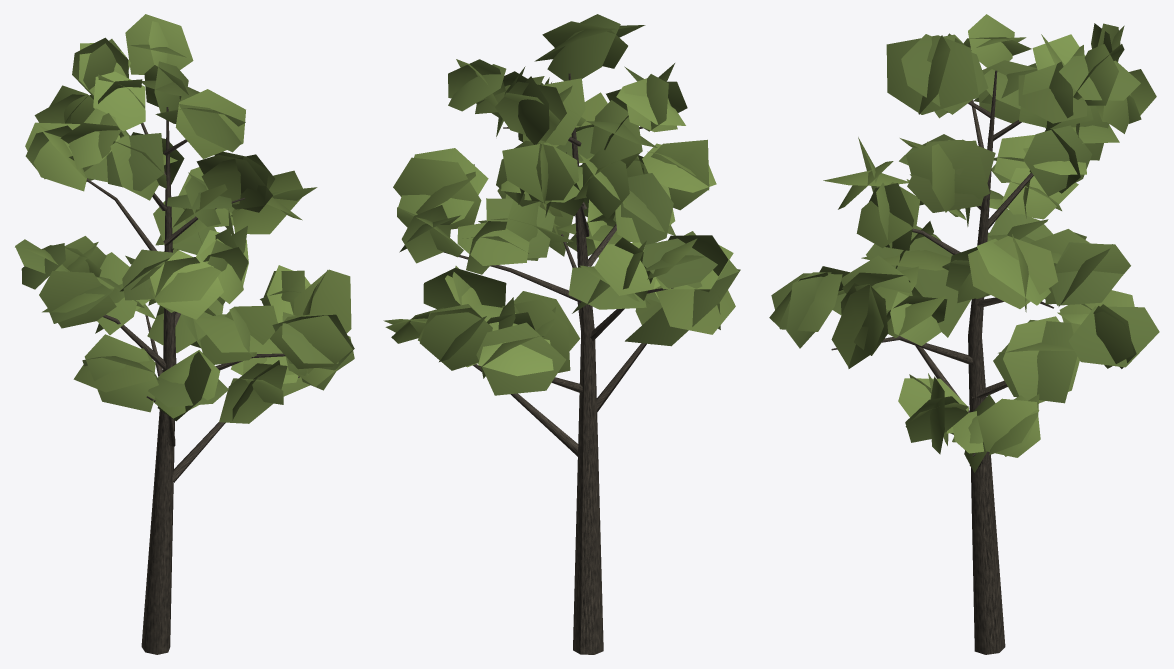
The model's file is young_05_lod2.glb.
3 renders of one model, left to right at view 1: azimuth 30°, elevation 25°; view 2: azimuth 150°, elevation 25°; view 3: azimuth 270°, elevation 25°, orthographic. The views are drawn at different scales.
Visible parts, largest first — view 1: individual_curved_leaf_sprigs, retained_branches_0; view 2: individual_curved_leaf_sprigs, retained_branches_0; view 3: individual_curved_leaf_sprigs, retained_branches_0.
Boxes of the visible parts, <box> form: individual_curved_leaf_sprigs: <box>15,14,354,423</box>; retained_branches_0: <box>86,107,299,654</box>; individual_curved_leaf_sprigs: <box>383,14,740,395</box>; retained_branches_0: <box>443,73,673,654</box>; individual_curved_leaf_sprigs: <box>769,14,1159,472</box>; retained_branches_0: <box>831,70,1053,654</box>.
Size of the model in its own units: 4.35 by 7.99 by 4.47.
Materials: 2 (1 with a texture image).
